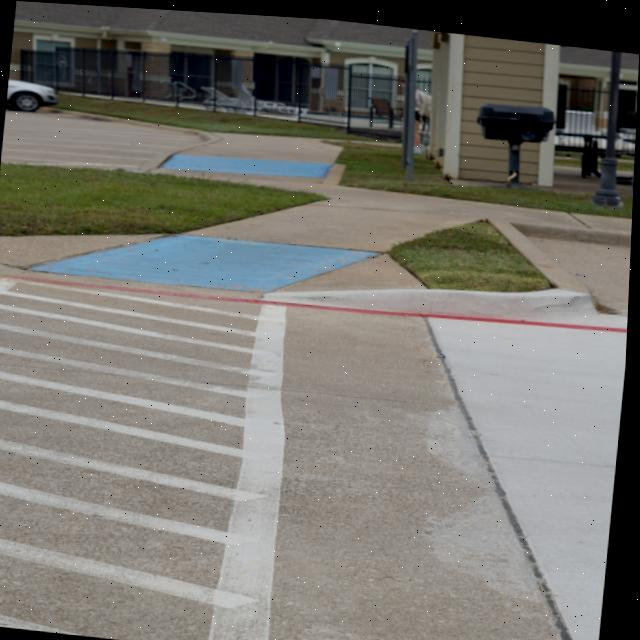Automobile: (7, 79, 59, 112)
Obstacle: (478, 97, 555, 177), (594, 43, 623, 200), (405, 42, 417, 132), (404, 144, 414, 176)
Road: (0, 228, 633, 640), (2, 110, 203, 168)
Sidewalk: (0, 130, 634, 290)
